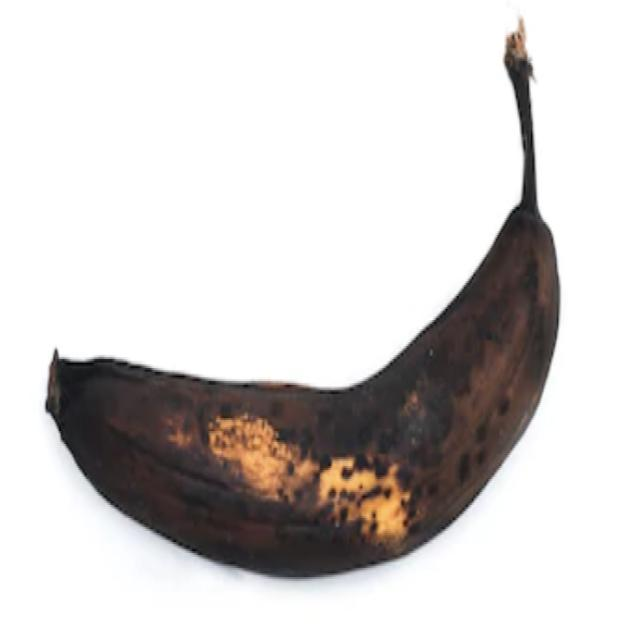rotten-banana: (44, 13, 562, 579)
